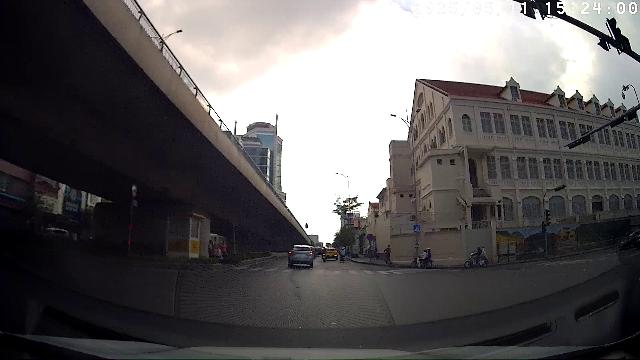423a-duong-nguoi-di-bo-sang-ngang-1: (414, 225, 421, 233)
